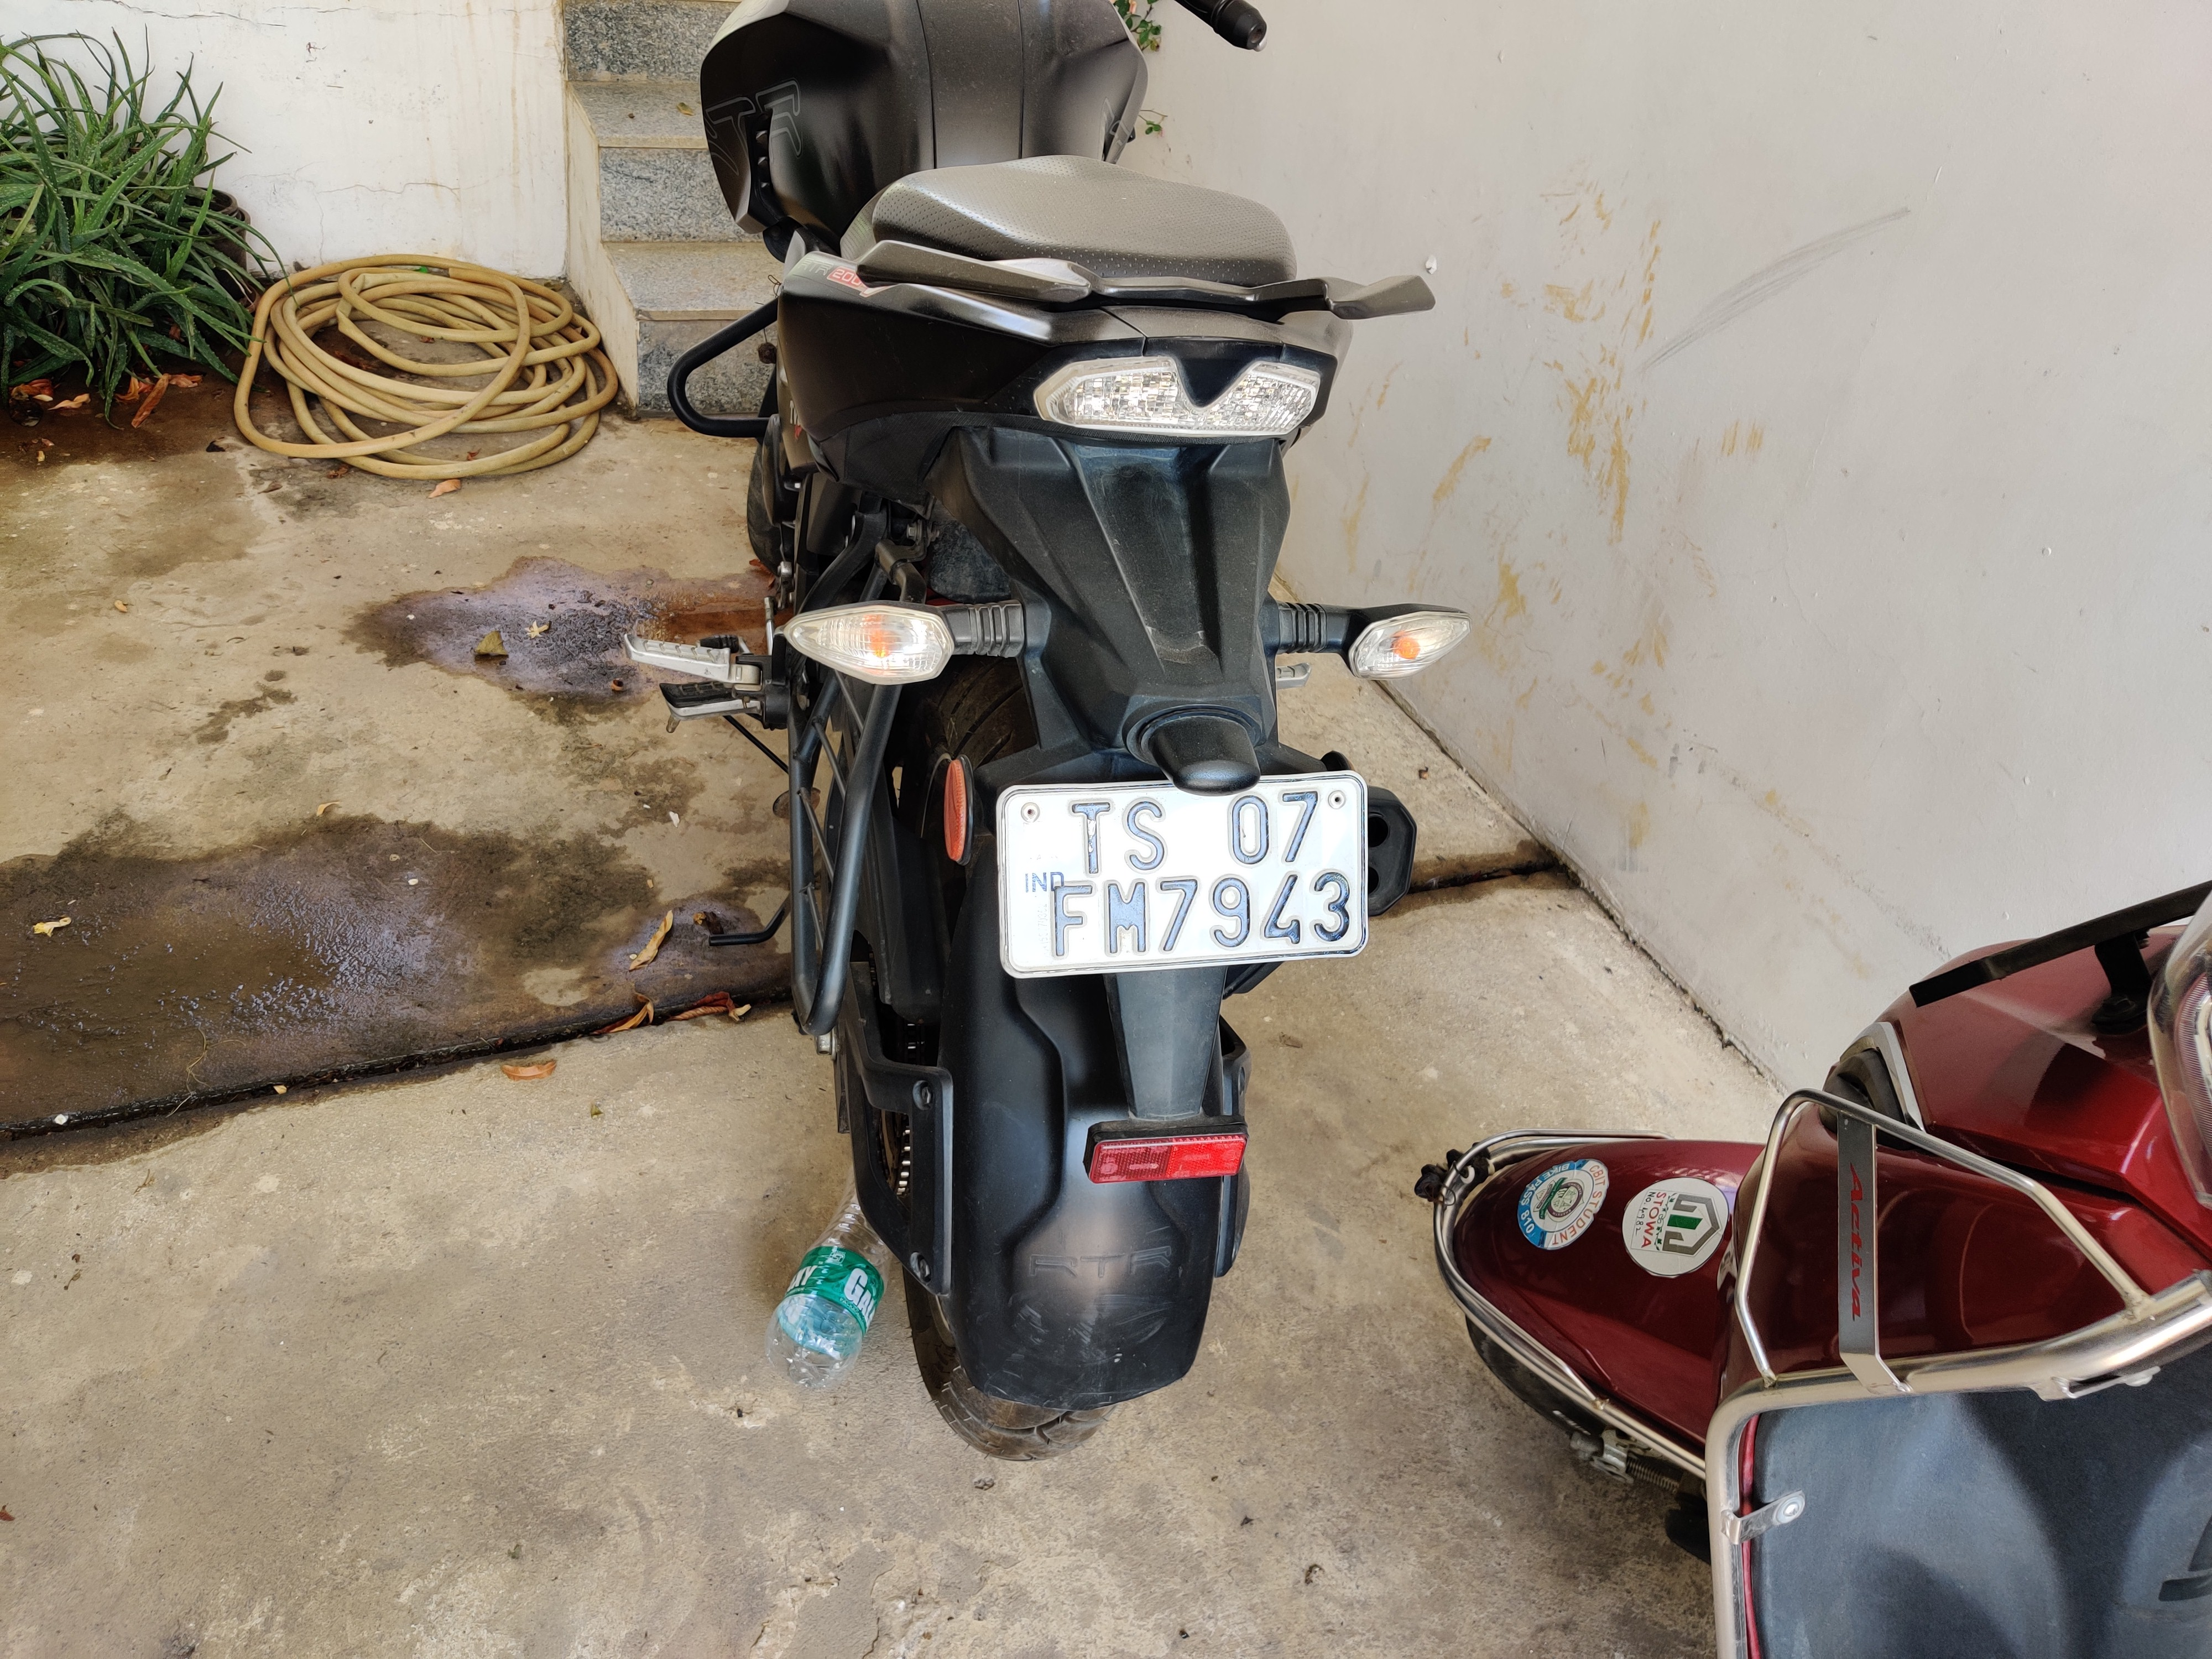plate: (986, 767, 1392, 983)
